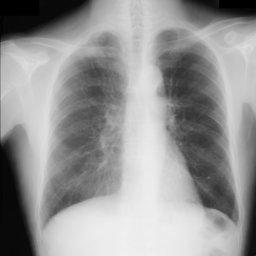left lobe: (158, 31, 239, 222)
right lobe: (43, 33, 126, 222)
